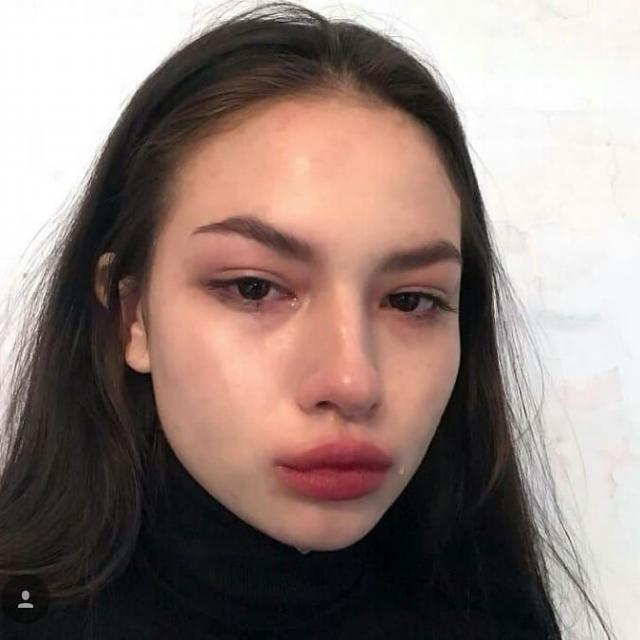earlobe: (94, 252, 152, 374)
